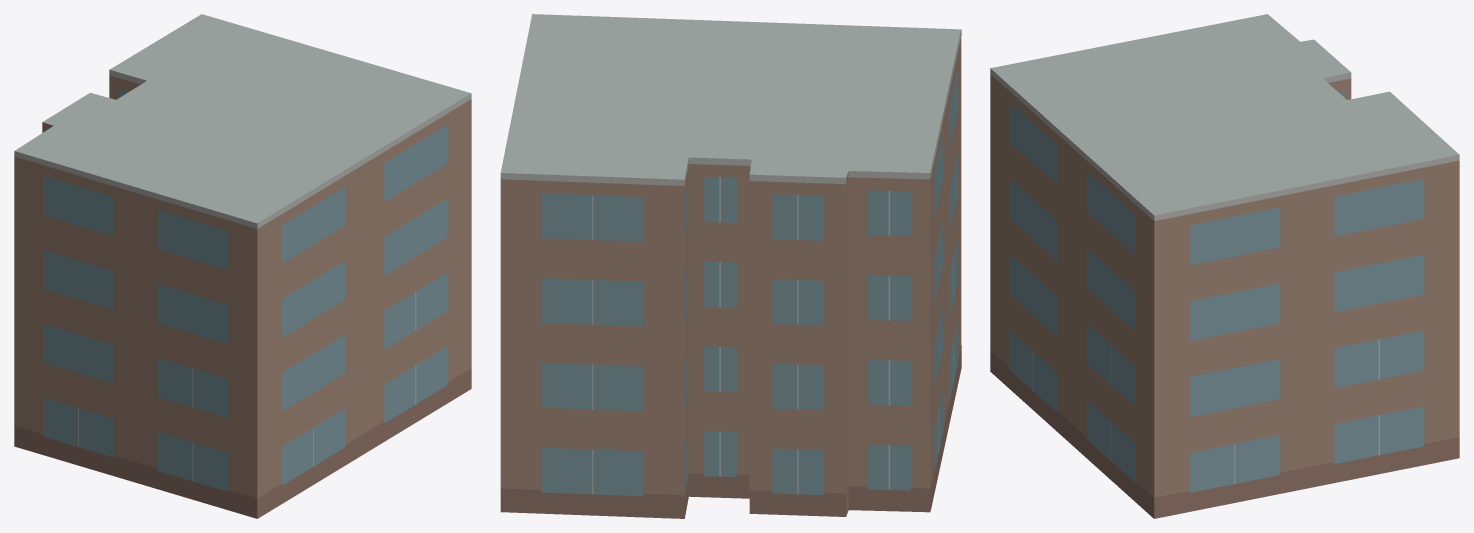
File: survey-upis-33015889.glb
The picture shows the model from 3 angles, left to right: view 1: azimuth 30°, elevation 25°; view 2: azimuth 150°, elevation 25°; view 3: azimuth 270°, elevation 25°; orthographic projection. The views are drawn at different scales.
Visible parts, largest first — view 1: survey-upis-33015889.tmp; view 2: survey-upis-33015889.tmp; view 3: survey-upis-33015889.tmp.
Part boxes in pixels (x1,y1,x2,y2): survey-upis-33015889.tmp: (14,14,471,518); survey-upis-33015889.tmp: (500,14,961,518); survey-upis-33015889.tmp: (990,14,1459,518).
Size of the model in its own units: 18.53 by 13 by 18.24.
